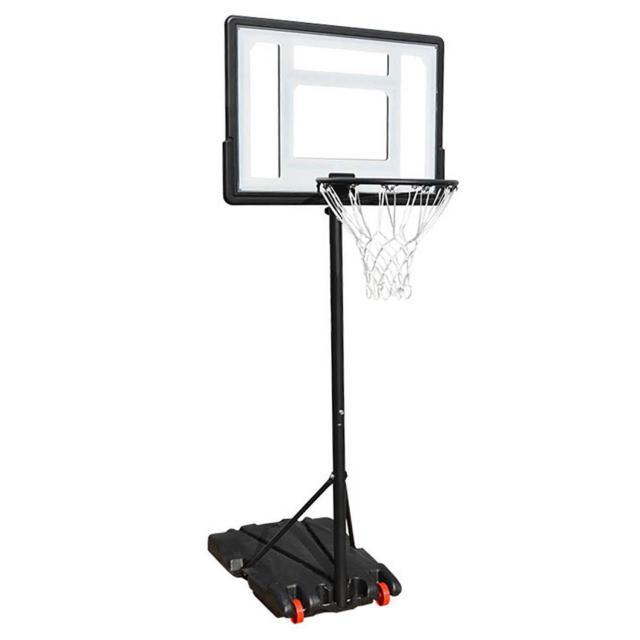hoop: (316, 178, 460, 300)
